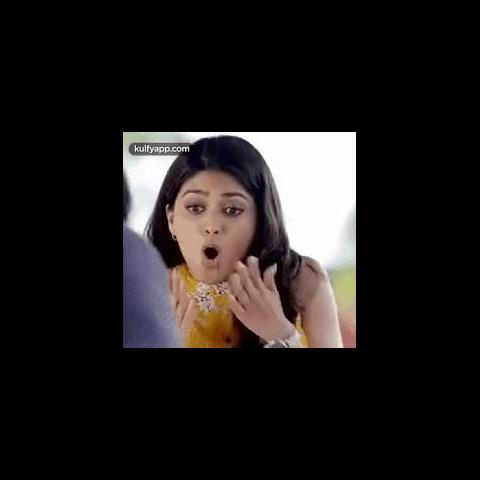opened: (174, 185, 256, 221)
